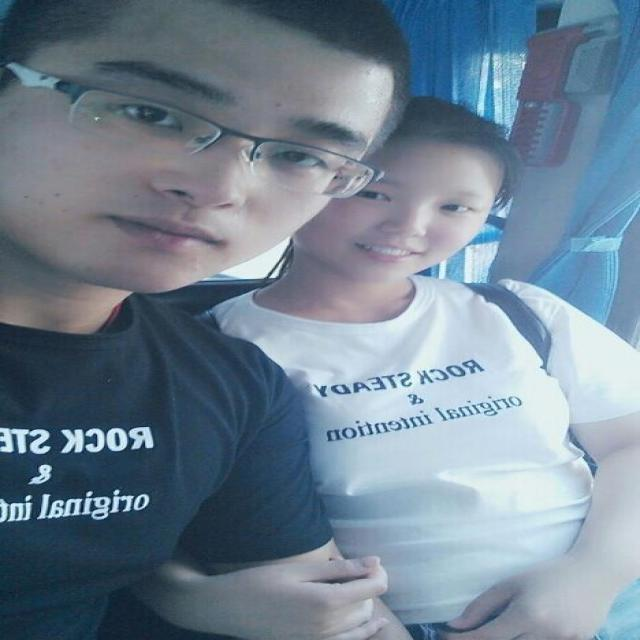short-sleeve-top: (198, 287, 640, 581)
